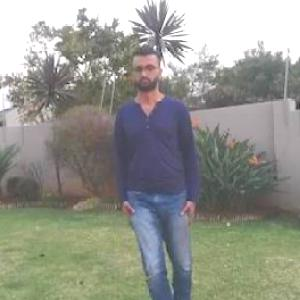follow: (120, 27, 198, 299)
